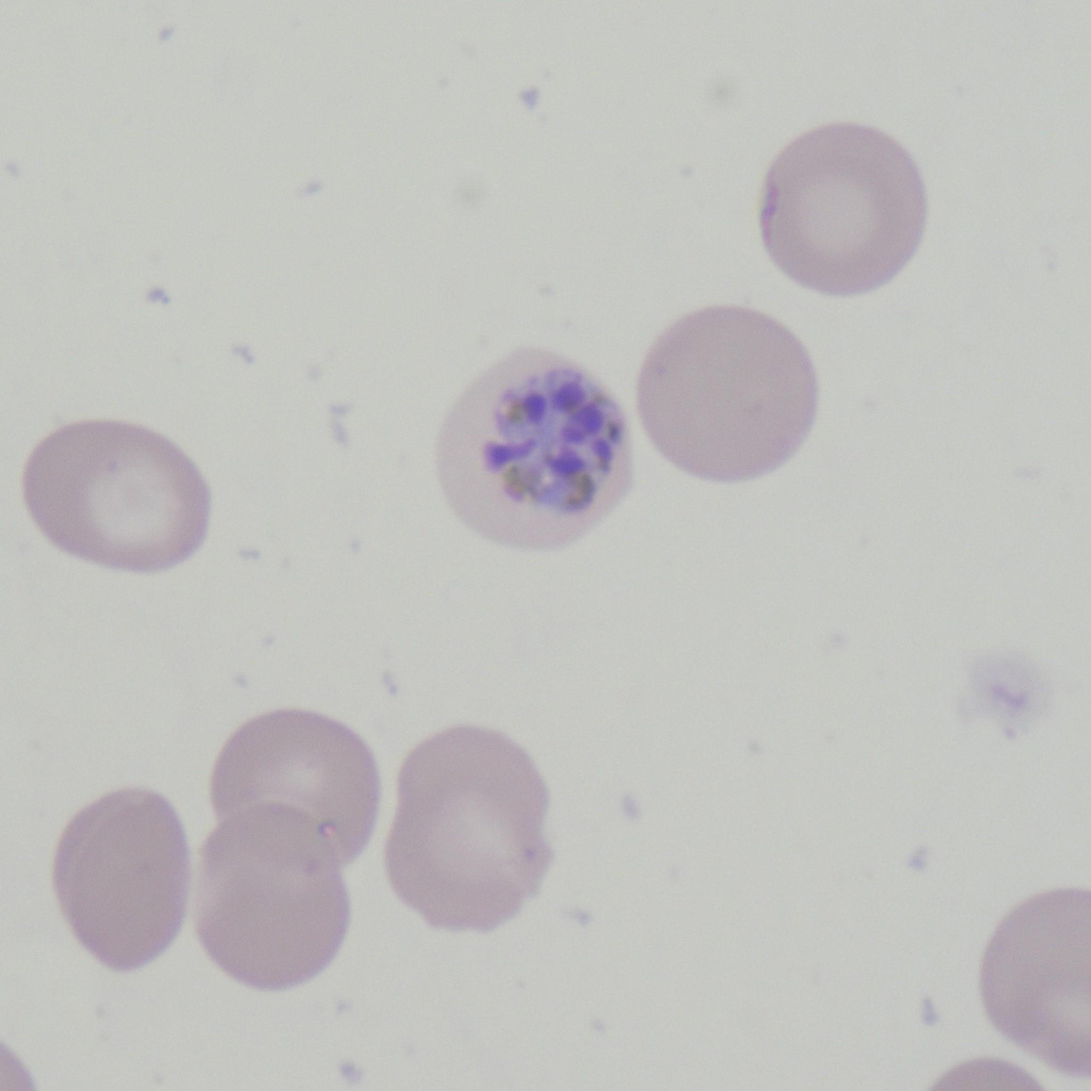Infected: (437, 345, 645, 549)
Uninfected: (637, 306, 816, 483), (23, 419, 216, 576), (762, 121, 926, 300), (194, 808, 348, 986), (213, 709, 380, 872), (53, 789, 194, 973), (385, 789, 539, 932), (396, 725, 548, 864), (978, 888, 1091, 1067)
